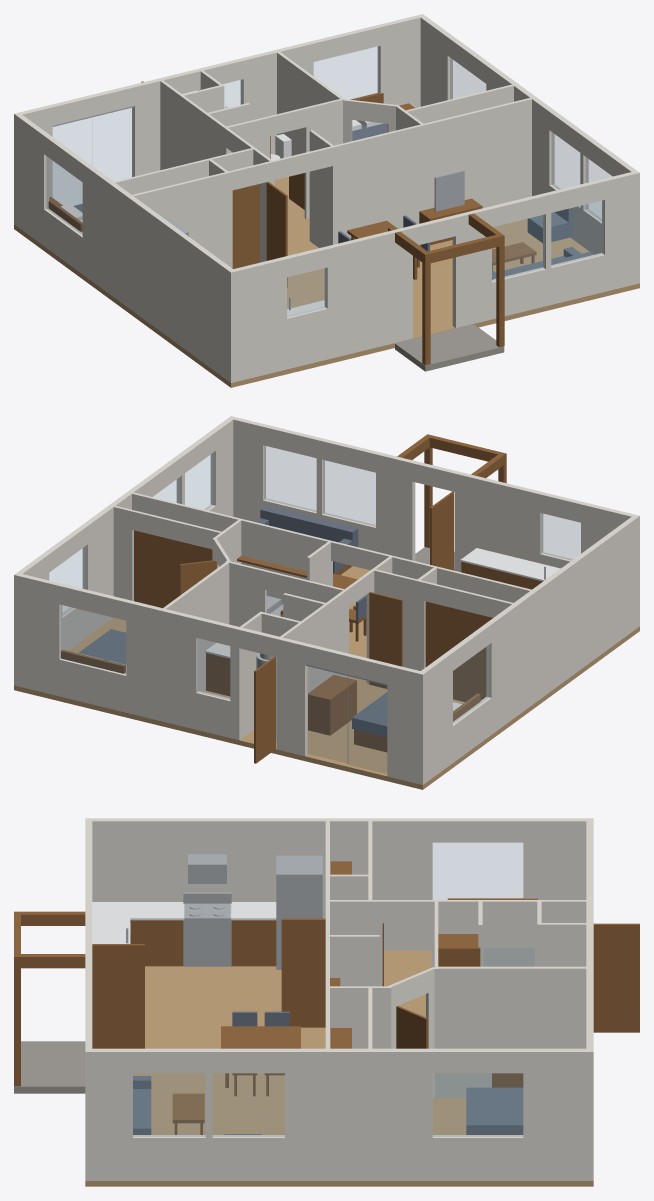
The model's file is adu-884.glb.
3 renders of one model, top to bottom at view 1: azimuth 30°, elevation 25°; view 2: azimuth 150°, elevation 25°; view 3: azimuth 270°, elevation 25°, orthographic. The views are drawn at different scales.
Visible parts, largest first — view 1: wall_west_2, p_corridor_3, wall_south_2, floor_slab, wall_south_1, p_corridor_1, wall_south_5, p_bed1_east_1, wall_south_3, wall_north_5, wall_west_1, wall_north_4 (+59 smaller); view 2: wall_west_2, wall_north_4, floor_slab, wall_south_2, wall_north_5, p_corridor_3, wall_north_1, wall_south_3, door_D10_panel_slide, wall_north_2, wall_west_1, door_D10_panel_fixed (+70 smaller); view 3: wall_west_2, floor_slab, wall_east_2, p_bed2_west_1, wall_east_1, p_bed1_east_1, wall_east_4, glass_W6, door_D02_leaf, wall_west_1, door_D09_leaf, glass_W9 (+44 smaller).
Boxes of the visible parts, left/top/right/bottom form: wall_west_2: left=82, top=163, right=236, bottom=382; p_corridor_3: left=332, top=96, right=536, bottom=243; wall_south_2: left=324, top=226, right=412, bottom=359; floor_slab: left=14, top=177, right=639, bottom=387; wall_south_1: left=228, top=257, right=286, bottom=382; p_corridor_1: left=126, top=171, right=232, bottom=307; wall_south_5: left=602, top=170, right=639, bottom=291; p_bed1_east_1: left=160, top=80, right=229, bottom=170; wall_south_3: left=452, top=207, right=491, bottom=327; wall_north_5: left=377, top=14, right=425, bottom=107; wall_west_1: left=14, top=113, right=49, bottom=245; wall_north_4: left=240, top=41, right=313, bottom=154; wall_west_2: left=486, top=515, right=639, bottom=734; wall_north_4: left=126, top=600, right=199, bottom=729; floor_slab: left=14, top=566, right=639, bottom=789; wall_south_2: left=455, top=471, right=543, bottom=572; wall_north_5: left=14, top=573, right=62, bottom=696; p_corridor_3: left=127, top=491, right=332, bottom=604; wall_north_1: left=387, top=664, right=425, bottom=784; wall_south_3: left=376, top=452, right=415, bottom=560; door_D10_panel_slide: left=308, top=666, right=348, bottom=762; wall_north_2: left=276, top=637, right=307, bottom=756; wall_west_1: left=417, top=651, right=452, bottom=784; door_D10_panel_fixed: left=347, top=676, right=386, bottom=773; wall_west_2: left=85, top=818, right=432, bottom=950; floor_slab: left=85, top=950, right=593, bottom=1186; wall_east_2: left=285, top=1048, right=432, bottom=1180; p_bed2_west_1: left=435, top=966, right=586, bottom=1097; wall_east_1: left=523, top=1048, right=593, bottom=1180; p_bed1_east_1: left=431, top=900, right=593, bottom=967; wall_east_4: left=85, top=1048, right=132, bottom=1180; glass_W6: left=433, top=1073, right=522, bottom=1136; door_D02_leaf: left=92, top=944, right=144, bottom=1048; wall_west_1: left=523, top=818, right=593, bottom=899; door_D09_leaf: left=593, top=923, right=639, bottom=1032; glass_W9: left=433, top=843, right=522, bottom=899.
Size of the model in its own units: 9.45 by 2.58 by 10.7.
